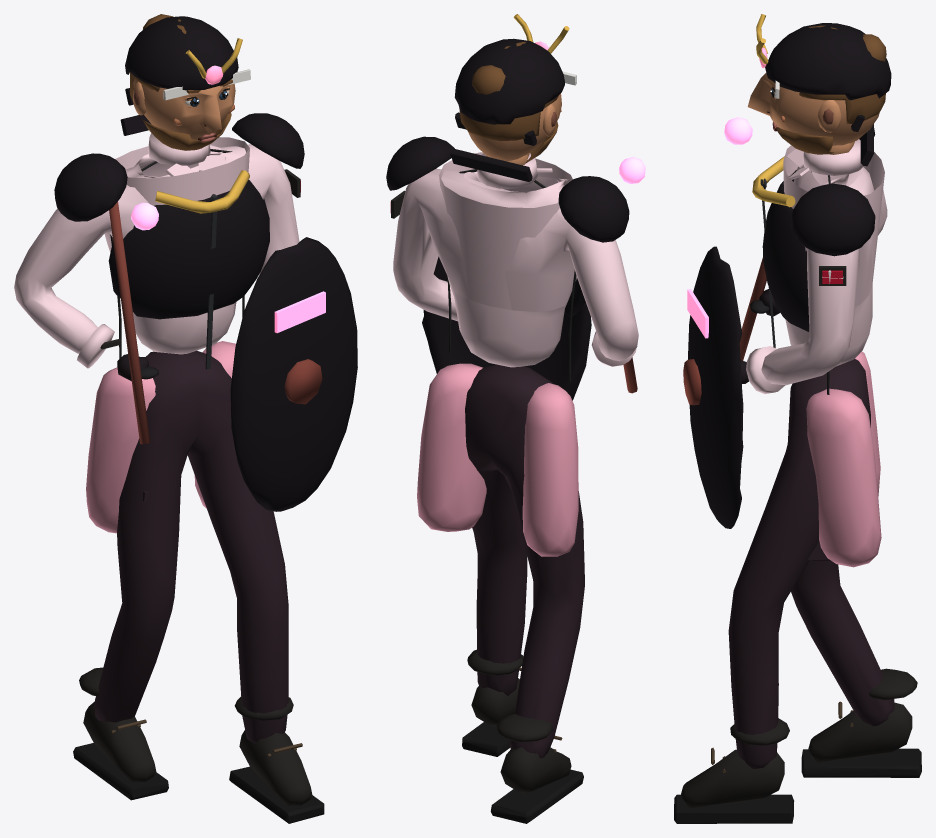
The model's file is enhed_sakura.glb.
3 renders of one model, left to right at view 1: azimuth 30°, elevation 25°; view 2: azimuth 150°, elevation 25°; view 3: azimuth 270°, elevation 25°, orthographic. The views are drawn at different scales.
Visible parts, largest first — view 1: krop_net; view 2: krop_net; view 3: krop_net.
Part boxes in pixels (bbox=[...]): krop_net: bbox=[14, 14, 357, 823]; krop_net: bbox=[386, 14, 645, 823]; krop_net: bbox=[674, 14, 921, 823].
Size of the model in its own units: 0.8603 by 2.23 by 0.6548.
